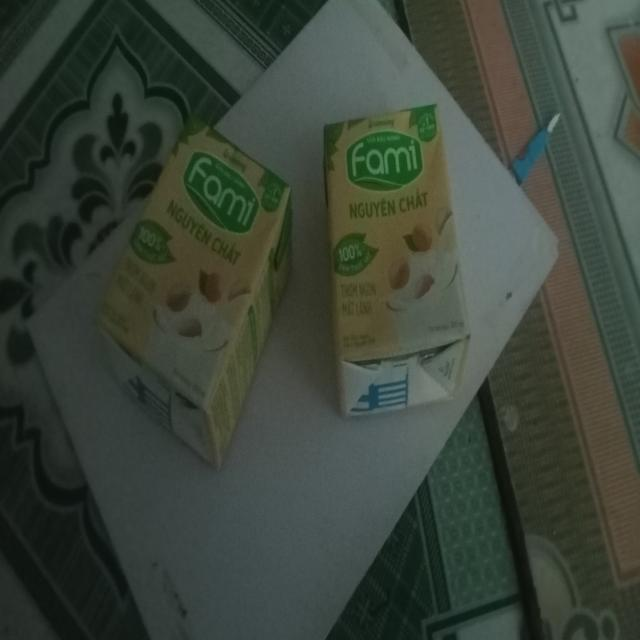Fami: (95, 112, 296, 476), (325, 102, 472, 416)
